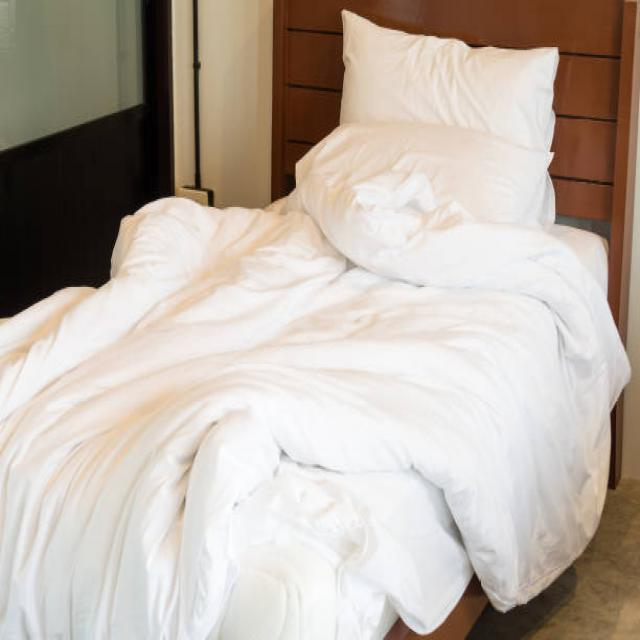bed: (0, 8, 631, 640)
